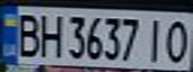3: (63, 12, 87, 60), (103, 14, 124, 61)
6: (84, 14, 106, 61)
7: (118, 15, 145, 62)
B: (9, 10, 42, 57)
H: (36, 10, 66, 58)
I: (142, 15, 169, 63)
O: (160, 16, 193, 64)
